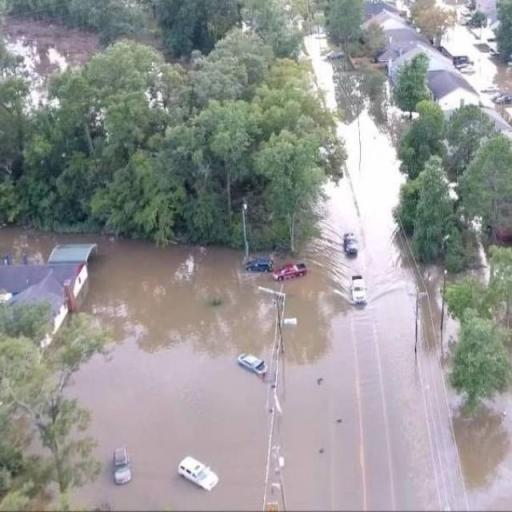flood: (66, 112, 512, 512)
house: (0, 273, 71, 353), (0, 261, 89, 302), (426, 64, 480, 118)
